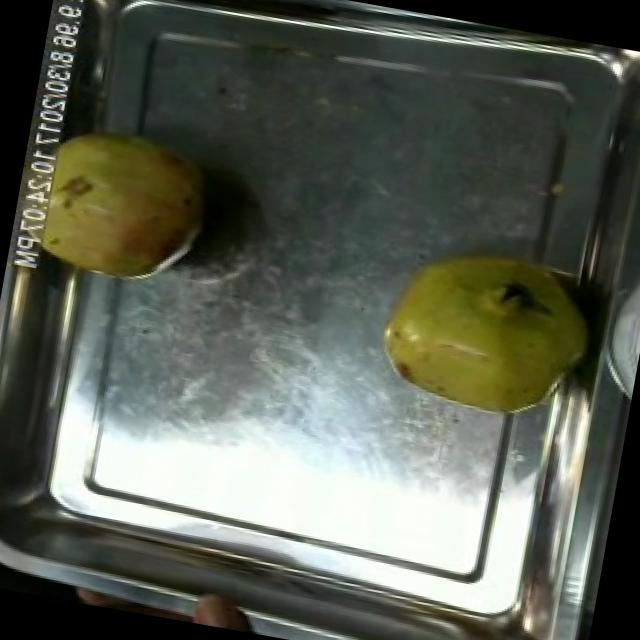fruit: (351, 218, 610, 444), (12, 108, 225, 300), (174, 586, 268, 634)
